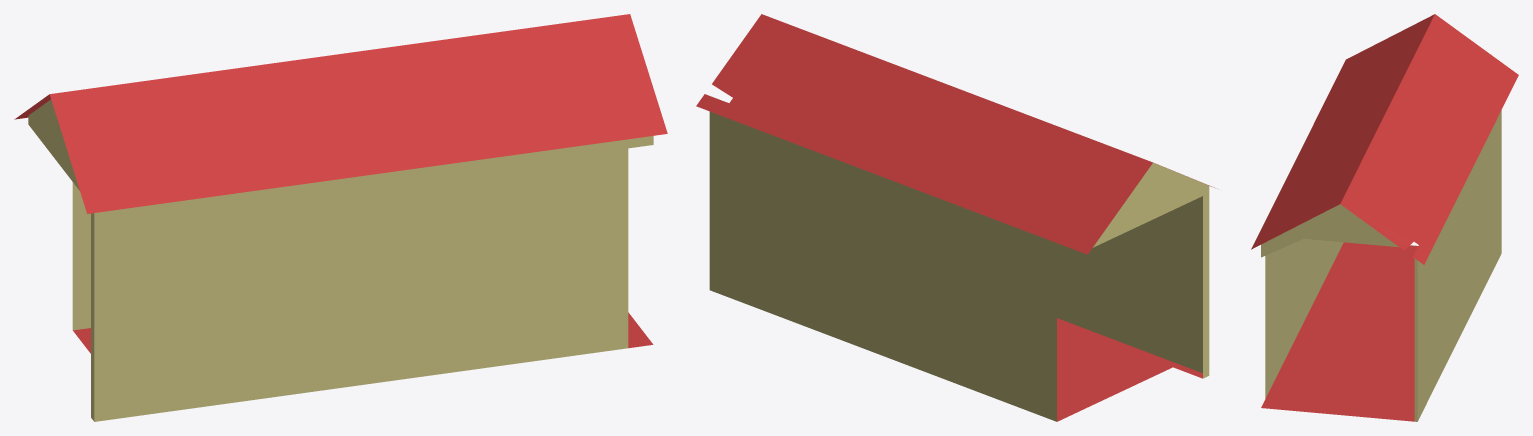
3 renders of one model, left to right at view 1: azimuth 30°, elevation 25°; view 2: azimuth 150°, elevation 25°; view 3: azimuth 270°, elevation 25°, orthographic. The views are drawn at different scales.
Bounding box in the file's own units: 28.65 × 15.79 × 13.95.
